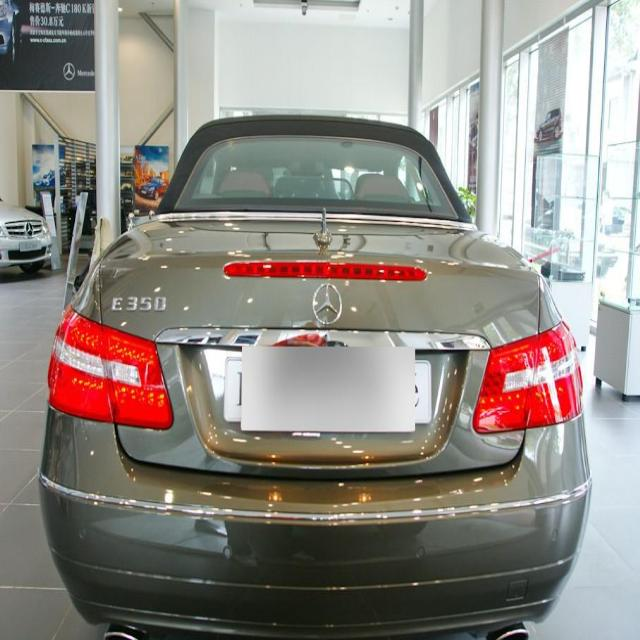back_glass: (171, 127, 468, 227)
back_left_side_light: (45, 306, 175, 432)
back_right_side_light: (471, 321, 583, 439)
rear_bumper: (35, 464, 594, 636)
